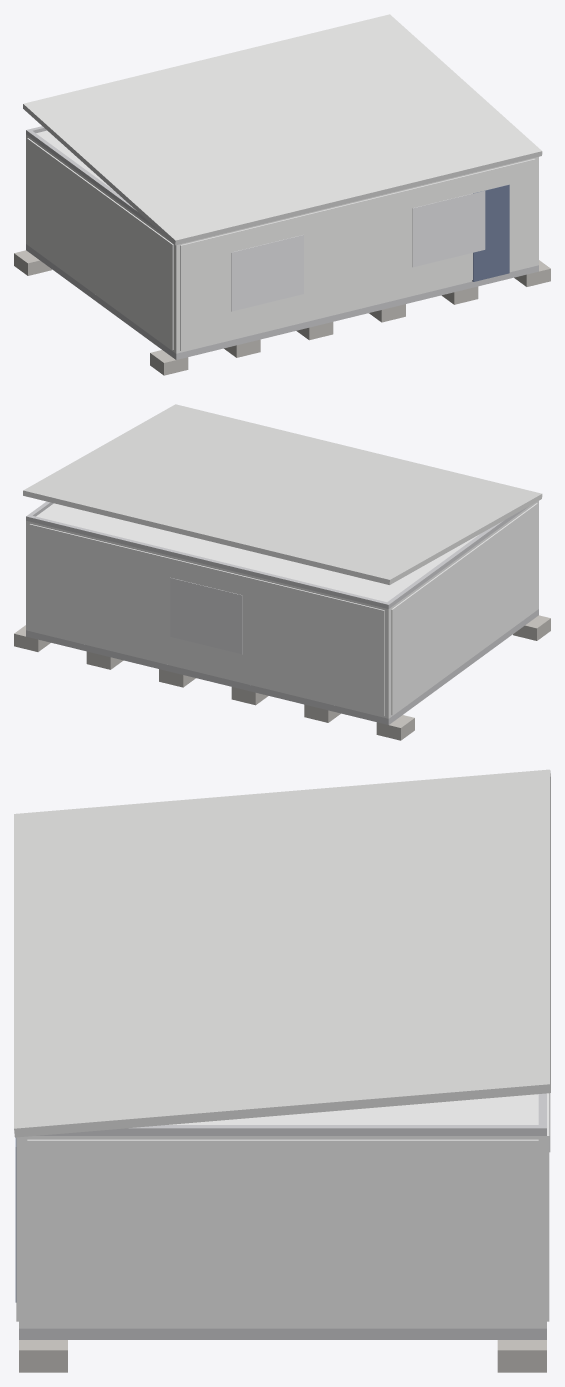
File: Studio-30-Premium+SlopingRoof-LOD0.glb
The picture shows the model from 3 angles, top to bottom: view 1: azimuth 30°, elevation 25°; view 2: azimuth 150°, elevation 25°; view 3: azimuth 270°, elevation 25°; orthographic projection. The views are drawn at different scales.
Parts seen in each view (by area): view 1: RoofSlopingUpgrade, ExteriorPanelsPremium, WindowsLargeUpgrade, BaseFrame, FoundationBlocks, ExteriorShell, EntryDoor, TopFrame, InteriorCeiling; view 2: ExteriorPanelsPremium, RoofSlopingUpgrade, InteriorCeiling, WindowsLargeUpgrade, ExteriorShell, TopFrame, BaseFrame, FoundationBlocks; view 3: RoofSlopingUpgrade, ExteriorPanelsPremium, ExteriorShell, BaseFrame, InteriorCeiling, TopFrame, FoundationBlocks.
Part boxes in pixels (x1=…): RoofSlopingUpgrade: x1=23, y1=14, x2=542, y2=245; ExteriorPanelsPremium: x1=27, y1=138, x2=535, y2=350; WindowsLargeUpgrade: x1=231, y1=191, x2=485, y2=311; BaseFrame: x1=26, y1=244, x2=538, y2=359; FoundationBlocks: x1=14, y1=250, x2=550, y2=375; ExteriorShell: x1=26, y1=134, x2=538, y2=353; EntryDoor: x1=472, y1=184, x2=509, y2=281; TopFrame: x1=26, y1=126, x2=161, y2=233; InteriorCeiling: x1=36, y1=130, x2=112, y2=189; ExteriorPanelsPremium: x1=29, y1=503, x2=537, y2=715; RoofSlopingUpgrade: x1=23, y1=404, x2=542, y2=584; InteriorCeiling: x1=36, y1=503, x2=479, y2=601; WindowsLargeUpgrade: x1=170, y1=577, x2=242, y2=654; ExteriorShell: x1=26, y1=501, x2=538, y2=718; TopFrame: x1=26, y1=501, x2=528, y2=608; BaseFrame: x1=26, y1=609, x2=538, y2=724; FoundationBlocks: x1=14, y1=615, x2=550, y2=740; RoofSlopingUpgrade: x1=14, y1=769, x2=550, y2=1137; ExteriorPanelsPremium: x1=16, y1=1093, x2=549, y2=1325; ExteriorShell: x1=19, y1=1136, x2=546, y2=1328; BaseFrame: x1=19, y1=1328, x2=546, y2=1339; InteriorCeiling: x1=169, y1=1094, x2=538, y2=1124; TopFrame: x1=36, y1=1093, x2=546, y2=1135; FoundationBlocks: x1=19, y1=1340, x2=546, y2=1372.
Size of the model in its own units: 9.6 by 3.77 by 6.56.
